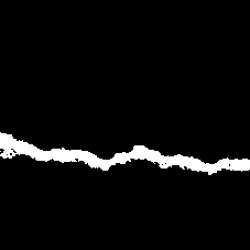crack: (3, 132, 249, 175)
